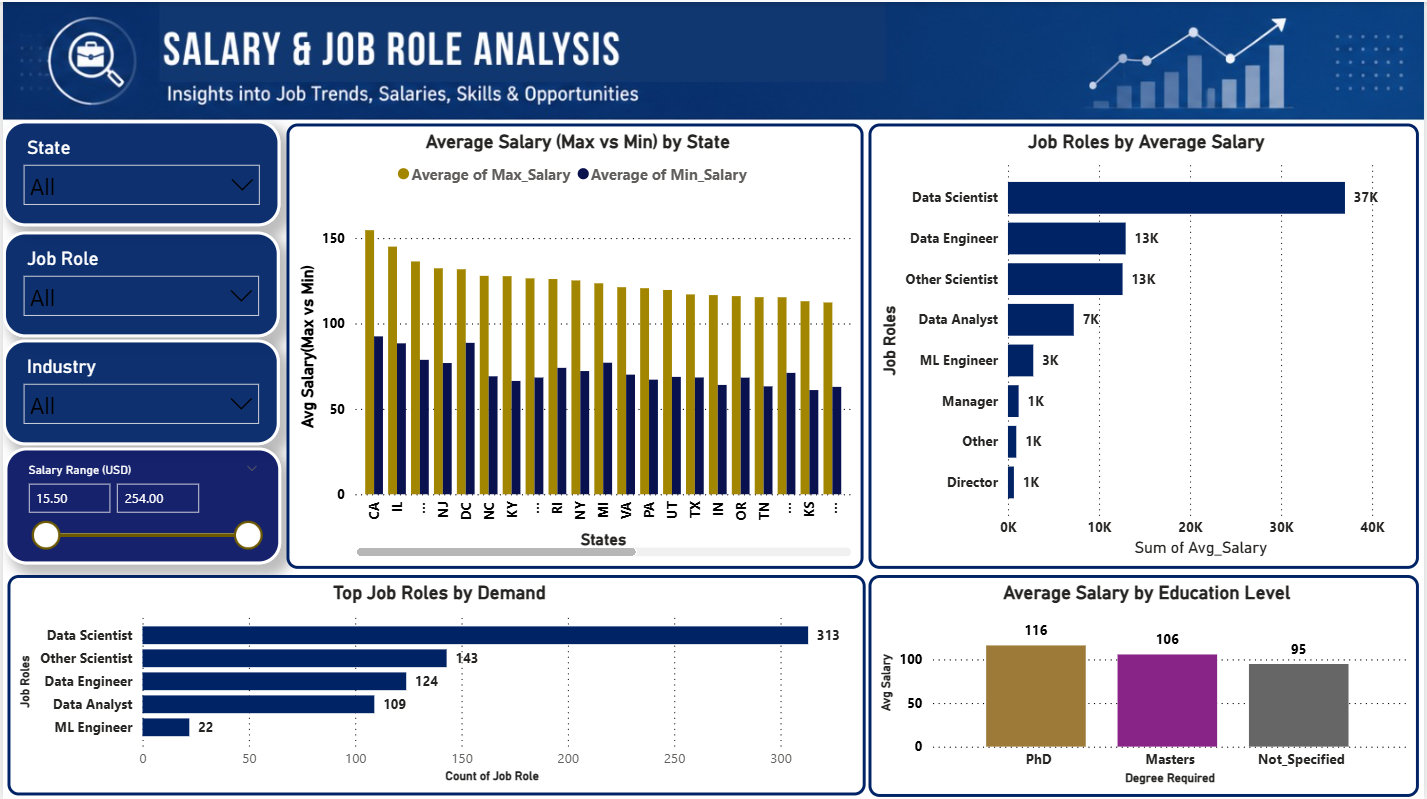

The dashboard page shown, as its layout file describes it:
{"tool":"powerbi","page":{"name":"SALARY & JOB ANALYSIS","canvas":[1280,720],"ordinal":1},"visuals":[{"type":"slicer","fields":{"Values":["Job_Market_Analysis_Final.State_Wise"]},"box":[0,106.7,250,95],"z":0},{"type":"slicer","fields":{"Values":["Job_Market_Analysis_Final.Job_Category"]},"box":[0,206.6,249.1,95.2],"z":1},{"type":"slicer","fields":{"Values":["Job_Market_Analysis_Final.Industry"]},"box":[0,303.8,249.1,95.2],"z":2},{"type":"slicer","fields":{"Values":["Job_Market_Analysis_Final.Avg_Salary"]},"box":[2,401,249.1,105.3],"z":3},{"type":"clusteredBarChart","title":"Top Job Roles by Demand","fields":{"Category":["Job_Market_Analysis_Final.Job_Category"],"Y":["CountNonNull(Job_Market_Analysis_Final.Job_Category)"]},"box":[4.7,516.6,773.4,198.5],"z":4},{"type":"clusteredColumnChart","title":"Average Salary by Education Level","fields":{"Category":["Job_Market_Analysis_Final.Degree_Required"],"Y":["Avg(Job_Market_Analysis_Final.Avg_Salary)"]},"box":[780,516.2,496.2,200],"z":5},{"type":"clusteredColumnChart","title":"Average Salary (Max vs Min) by State","fields":{"Category":["Job_Market_Analysis_Final.State_Wise"],"Y":["Avg(Job_Market_Analysis_Final.Max_Salary)","Avg(Job_Market_Analysis_Final.Min_Salary)"]},"box":[255.7,110,520,401.4],"z":6},{"type":"barChart","title":"Job Roles by Average Salary","fields":{"Category":["Job_Market_Analysis_Final.Job_Category"],"Y":["Sum(Job_Market_Analysis_Final.Avg_Salary)"]},"box":[780,110,495.7,401.4],"z":7}]}

Visuals, with their boxes in screenshot pixels (x1, y1, x2, y2), scaled from the page's 1280x720 canvas onto the 1427x799 screenshot:
slicer - Job_Market_Analysis_Final.State_Wise: <box>0,118,279,224</box>
slicer - Job_Market_Analysis_Final.Job_Category: <box>0,229,278,335</box>
slicer - Job_Market_Analysis_Final.Industry: <box>0,337,278,443</box>
slicer - Job_Market_Analysis_Final.Avg_Salary: <box>2,445,280,562</box>
"Top Job Roles by Demand" clusteredBarChart: <box>5,573,867,794</box>
"Average Salary by Education Level" clusteredColumnChart: <box>870,573,1423,795</box>
"Average Salary (Max vs Min) by State" clusteredColumnChart: <box>285,122,865,568</box>
"Job Roles by Average Salary" barChart: <box>870,122,1422,568</box>
